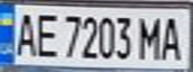0: (97, 12, 118, 61)
2: (78, 11, 100, 60)
3: (115, 12, 136, 61)
7: (57, 10, 81, 60)
A: (157, 12, 187, 61), (9, 9, 39, 57)
E: (33, 9, 60, 58)
M: (136, 12, 166, 61)
